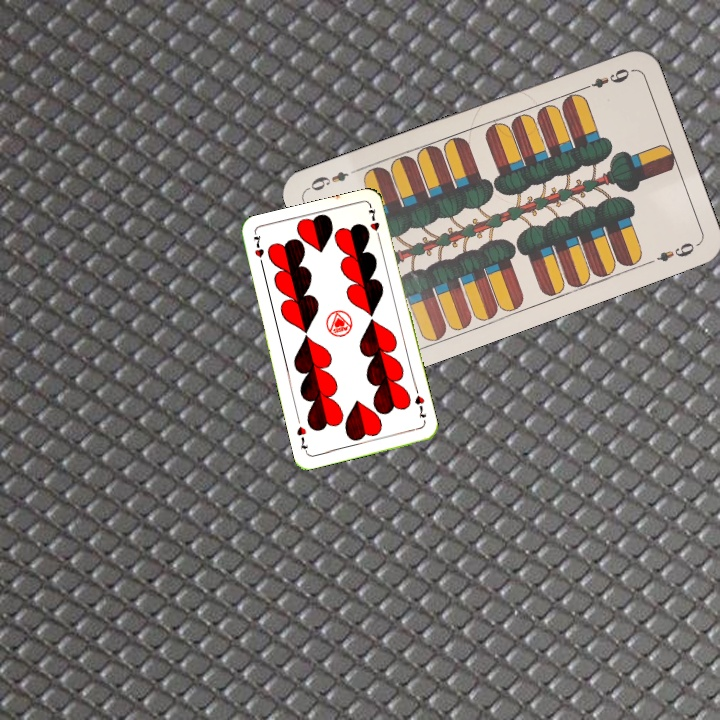E9: (578, 64, 635, 93)
H7: (249, 231, 266, 270), (411, 385, 429, 421)
